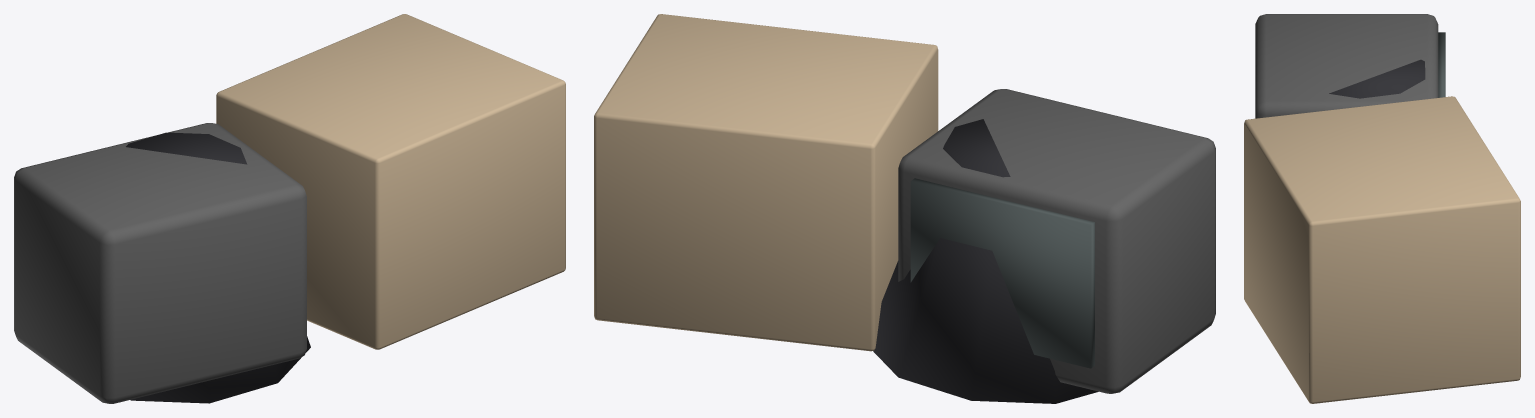
File: res_tv.glb
3 renders of one model, left to right at view 1: azimuth 30°, elevation 25°; view 2: azimuth 150°, elevation 25°; view 3: azimuth 270°, elevation 25°, orthographic. The views are drawn at different scales.
Visible parts, largest first — view 1: res_tv; view 2: res_tv; view 3: res_tv.
Part boxes in pixels (x1=…): res_tv: x1=14, y1=14, x2=565, y2=403; res_tv: x1=594, y1=14, x2=1215, y2=403; res_tv: x1=1244, y1=14, x2=1520, y2=403.
Bounding box in the file's own units: 1.47 × 0.6042 × 0.7556.
